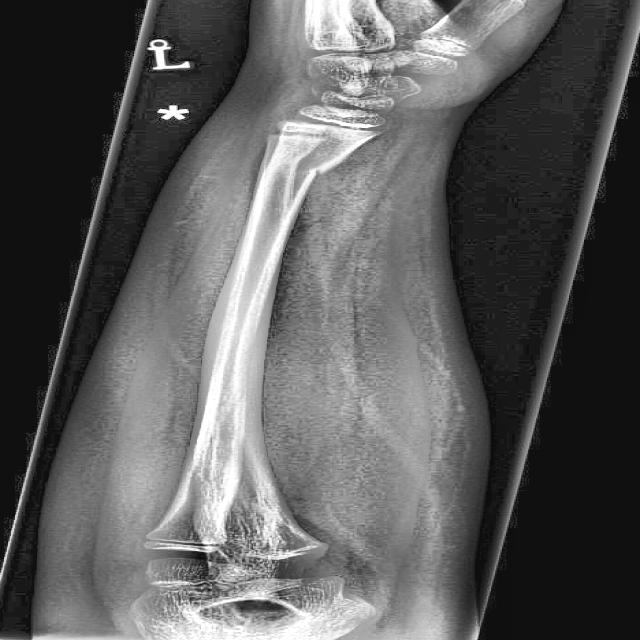line: (305, 162, 331, 178)
